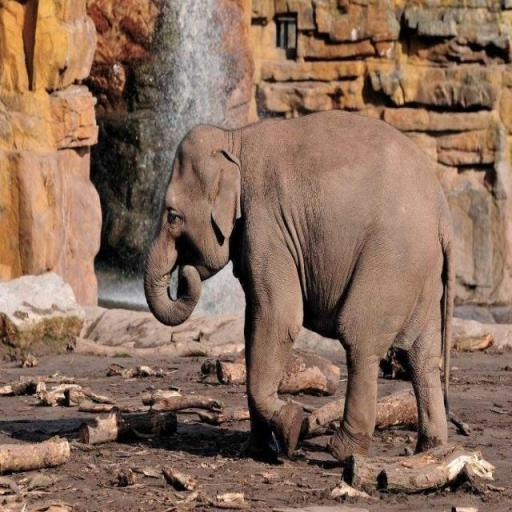Elephant: (142, 108, 470, 462)
